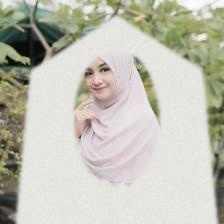Mukena: (10, 39, 223, 224)
